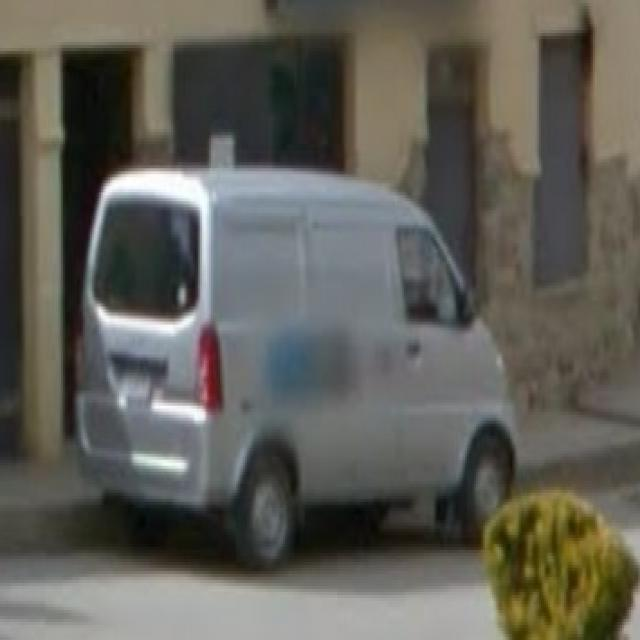car: (74, 164, 519, 571)
